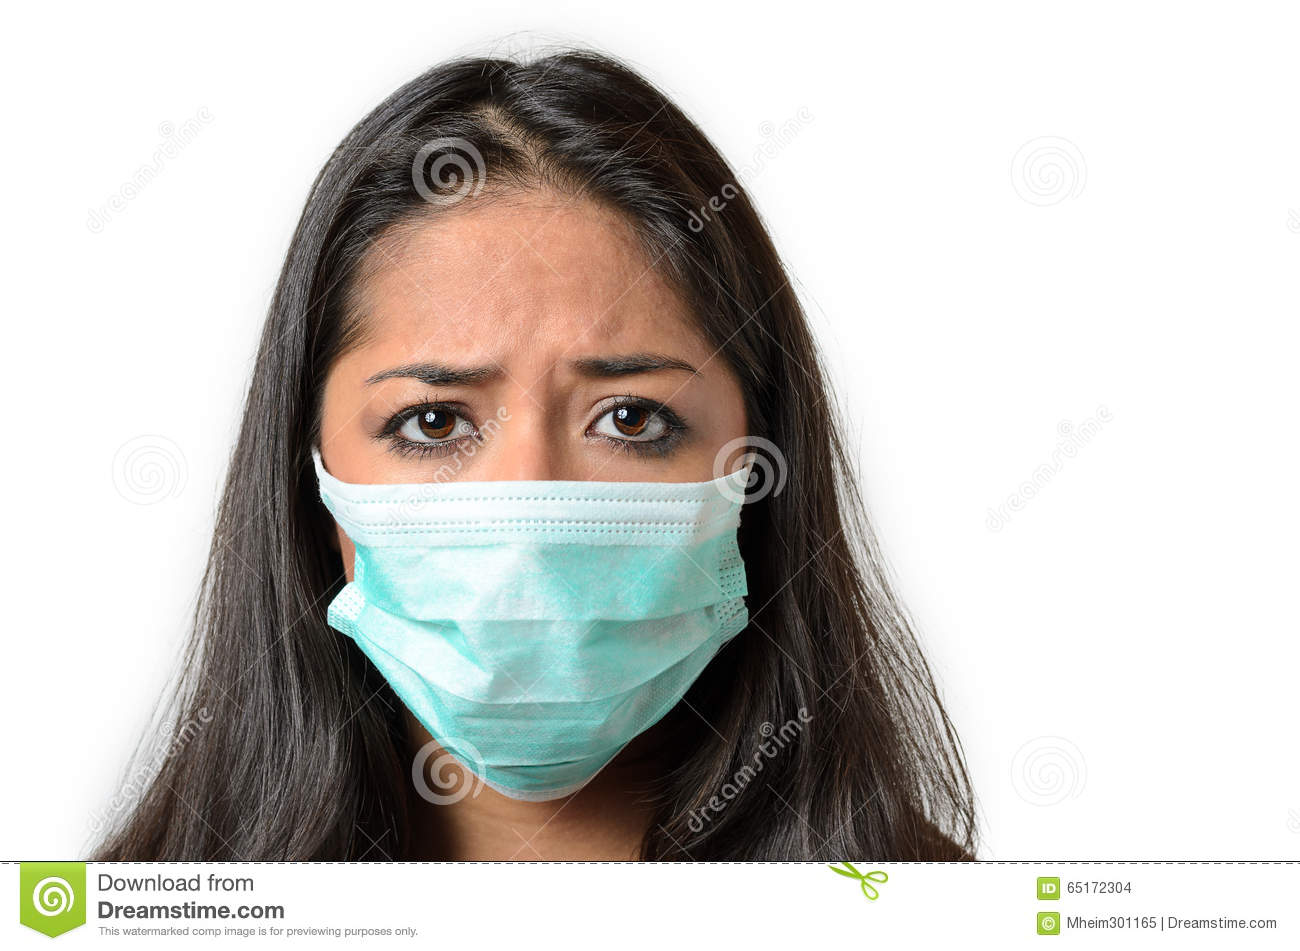mask: (323, 476, 749, 800)
